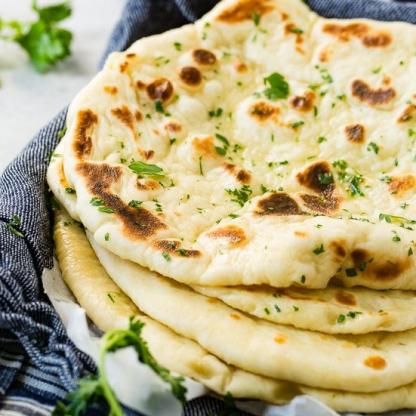naan: (63, 0, 416, 284), (56, 206, 416, 412), (47, 137, 416, 336), (86, 226, 416, 394)
